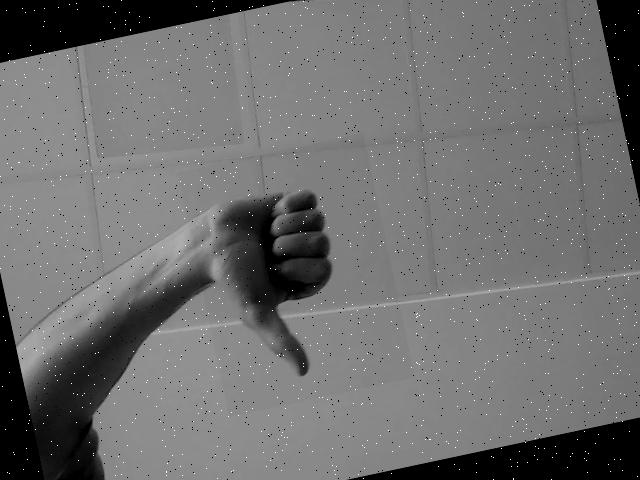bad: (177, 133, 414, 417)
